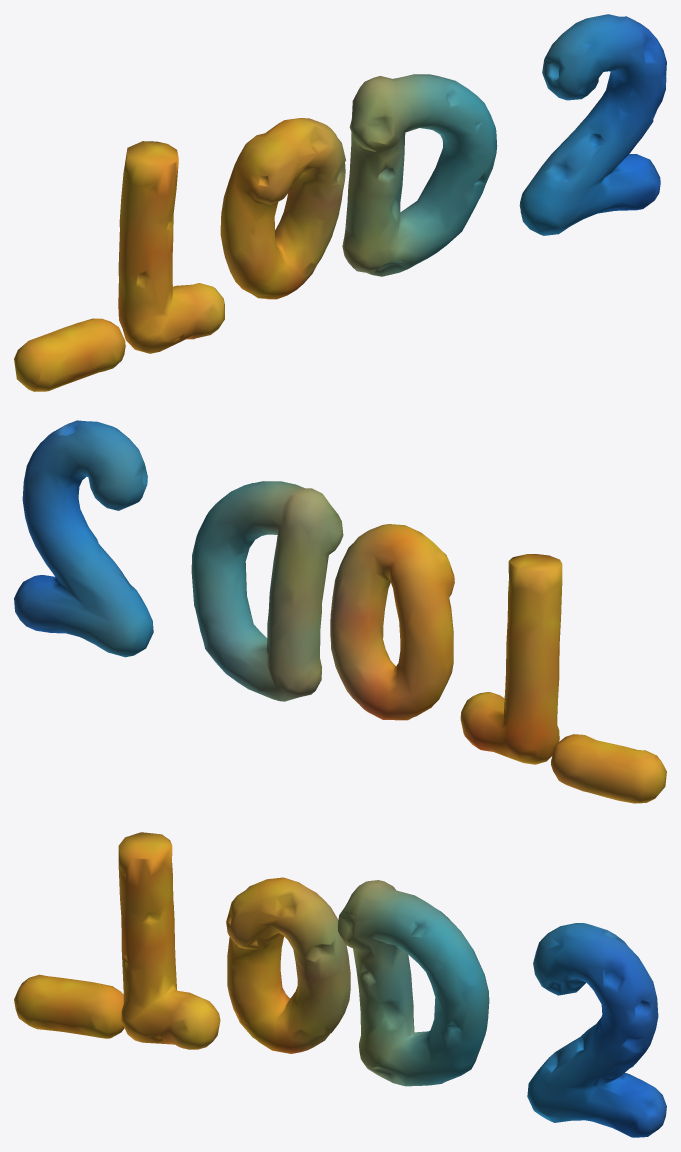
3 renders of one model, top to bottom at view 1: azimuth 30°, elevation 25°; view 2: azimuth 150°, elevation 25°; view 3: azimuth 330°, elevation 25°, orthographic.
Parts seen in each view (by area): view 1: _LOD2; view 2: _LOD2; view 3: _LOD2.
Boxes of the visible parts, x1,y1,x2,y2 form: _LOD2: (14,14,666,391); _LOD2: (14,420,666,803); _LOD2: (14,832,666,1137).
Size of the model in its own units: 4.93 by 0.5711 by 1.76.
